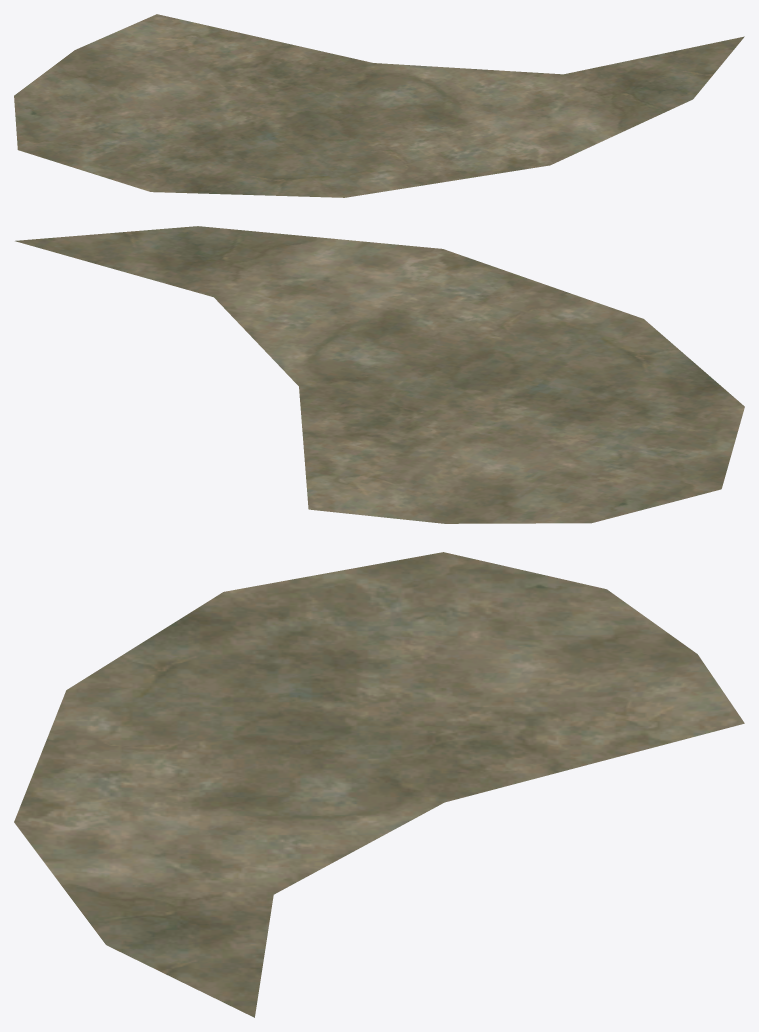
File: OVERHILL_A_01_GROUND27.fbx
The picture shows the model from 3 angles, top to bottom: view 1: azimuth 30°, elevation 25°; view 2: azimuth 150°, elevation 25°; view 3: azimuth 270°, elevation 25°; orthographic projection. The views are drawn at different scales.
Parts seen in each view (by area): view 1: OVERHILL_A_01_GROUND27; view 2: OVERHILL_A_01_GROUND27; view 3: OVERHILL_A_01_GROUND27.
Boxes of the visible parts, x1=… form: OVERHILL_A_01_GROUND27: x1=14, y1=14, x2=744, y2=197; OVERHILL_A_01_GROUND27: x1=15, y1=226, x2=744, y2=523; OVERHILL_A_01_GROUND27: x1=14, y1=552, x2=744, y2=1017.
Bounding box in the file's own units: 30676 × 0.00331 × 20344.
1 material, 1 textured.
